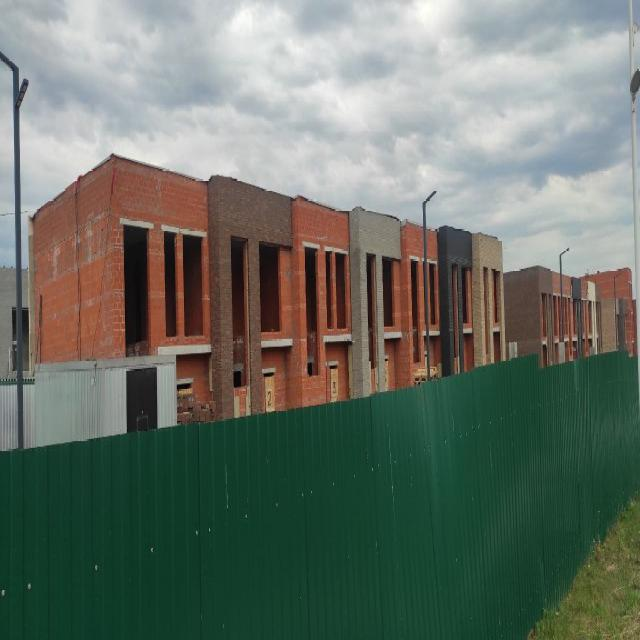Building: (32, 156, 506, 426)
